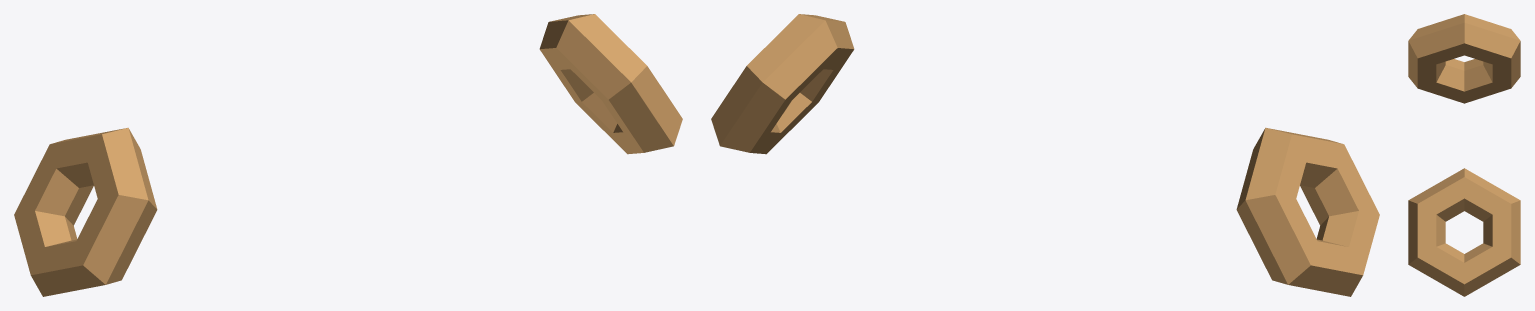
The model's file is SM_Chr_Attach_Earrings_02.fbx.
3 renders of one model, left to right at view 1: azimuth 30°, elevation 25°; view 2: azimuth 150°, elevation 25°; view 3: azimuth 270°, elevation 25°, orthographic. The views are drawn at different scales.
Visible parts, largest first — view 1: SM_Chr_Attach_Earrings_02; view 2: SM_Chr_Attach_Earrings_02; view 3: SM_Chr_Attach_Earrings_02.
Boxes of the visible parts, box(x1,y1,x2,y2) form: SM_Chr_Attach_Earrings_02: box(14, 14, 682, 296); SM_Chr_Attach_Earrings_02: box(711, 14, 1379, 296); SM_Chr_Attach_Earrings_02: box(1408, 14, 1520, 296).
Size of the model in its own units: 29.91 by 6.68 by 6.75.
